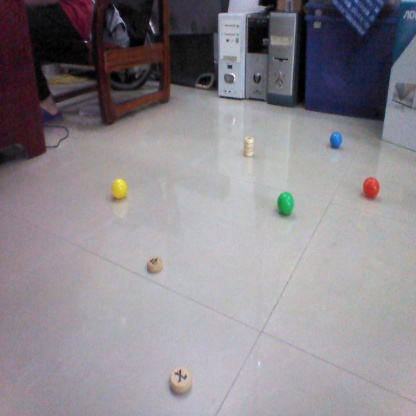ball: (109, 177, 131, 200), (276, 193, 298, 216), (361, 175, 383, 198), (326, 129, 346, 149)
chess: (166, 367, 194, 396), (144, 253, 164, 276), (242, 134, 258, 160)
